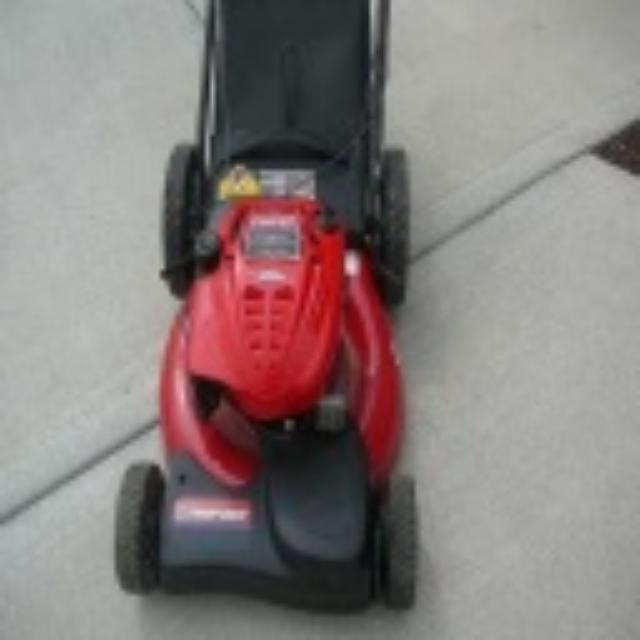Rotary-Mower: (110, 0, 420, 610)
